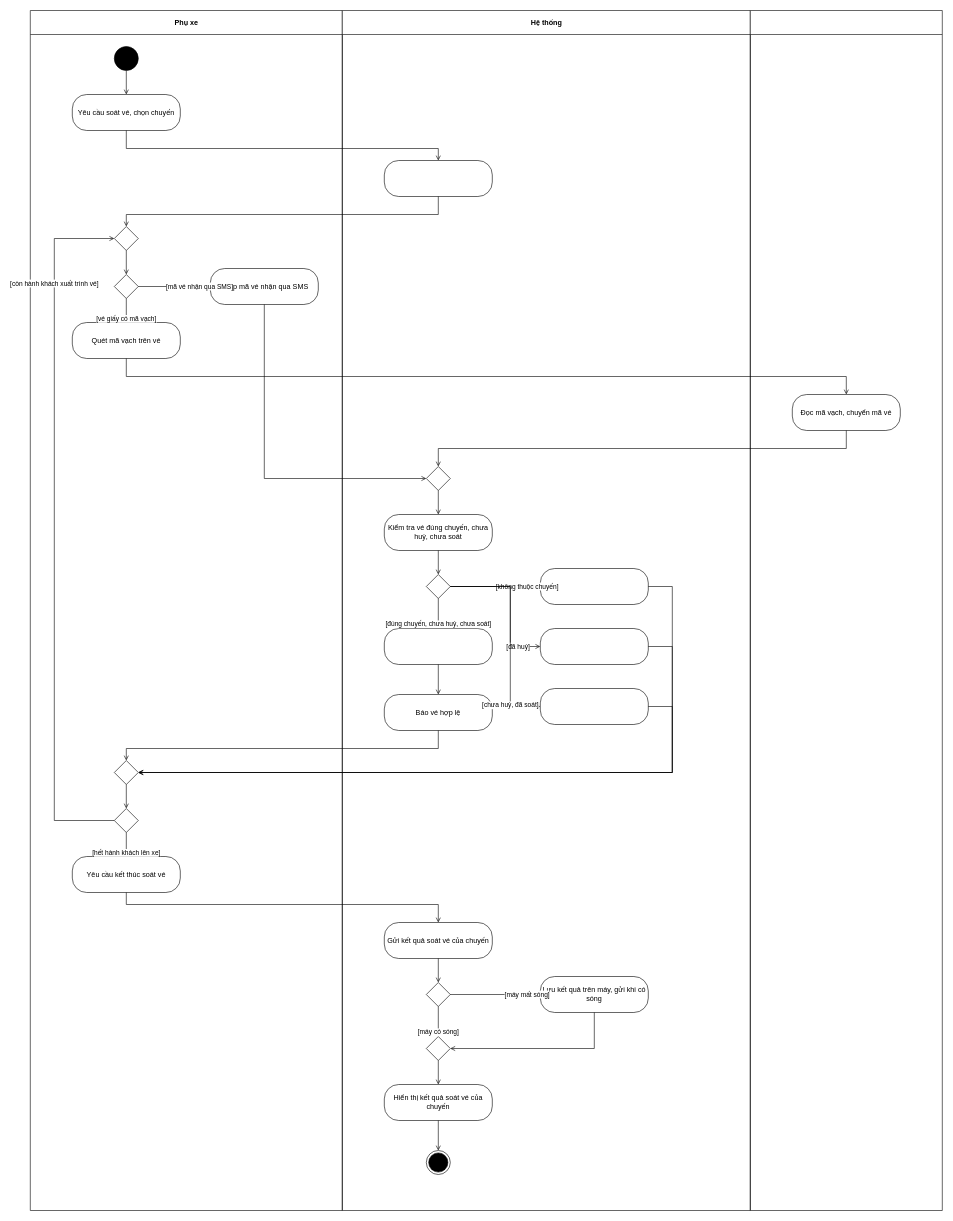
The diagram is 953 pixels wide and 1221 high, and some of its shapes have lost their labels. Each missing label, with the box of its shape:
Báo không hợp lệ: sai chuyến: (540, 568, 648, 604)
Báo không hợp lệ: vé đã huỷ: (540, 628, 648, 664)
Báo không hợp lệ: vé đã soát: (540, 688, 648, 724)
Ghi nhận vé đã soát: (384, 628, 492, 664)
Hiển thị chuyến và số vé cần soát: (384, 160, 492, 196)
Đầu quét mã vạch: (750, 10, 942, 1210)
